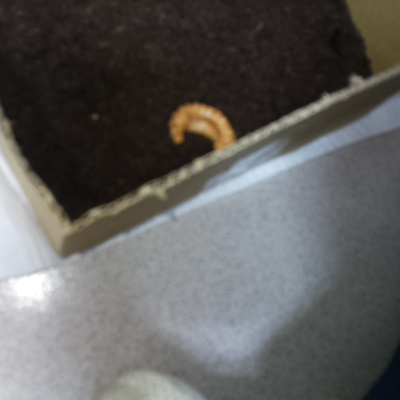eggs: (163, 97, 242, 164)
